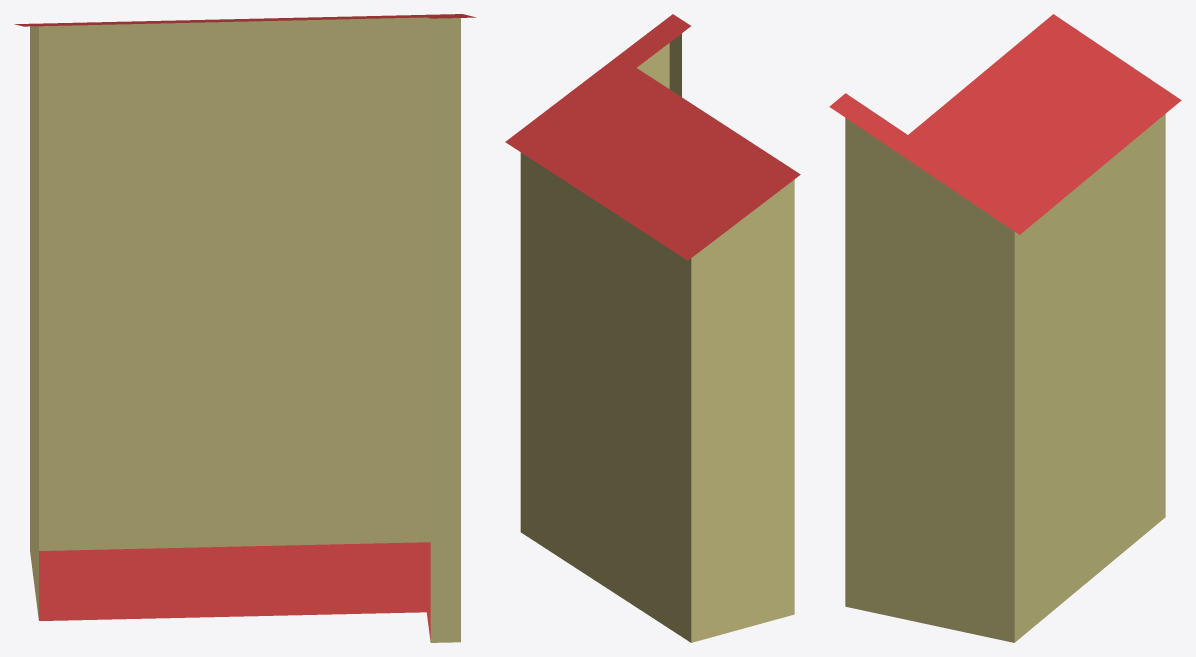
The picture shows the model from 3 angles, left to right: view 1: azimuth 30°, elevation 25°; view 2: azimuth 150°, elevation 25°; view 3: azimuth 270°, elevation 25°; orthographic projection. The views are drawn at different scales.
Bounding box in the file's own units: 7.93 × 7.28 × 11.45.
